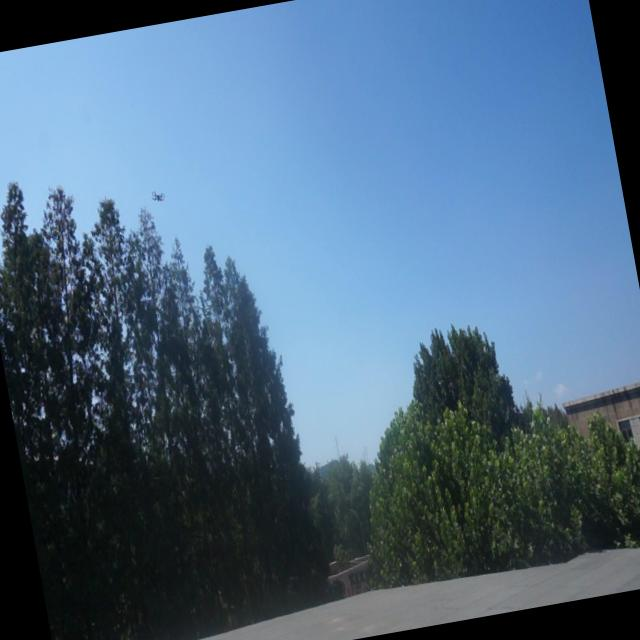drone: (148, 183, 168, 210)
